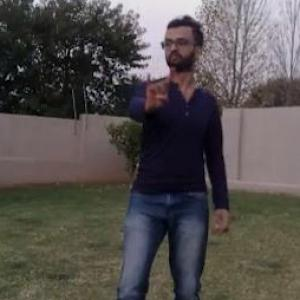takeoff-hand: (136, 62, 179, 110)
